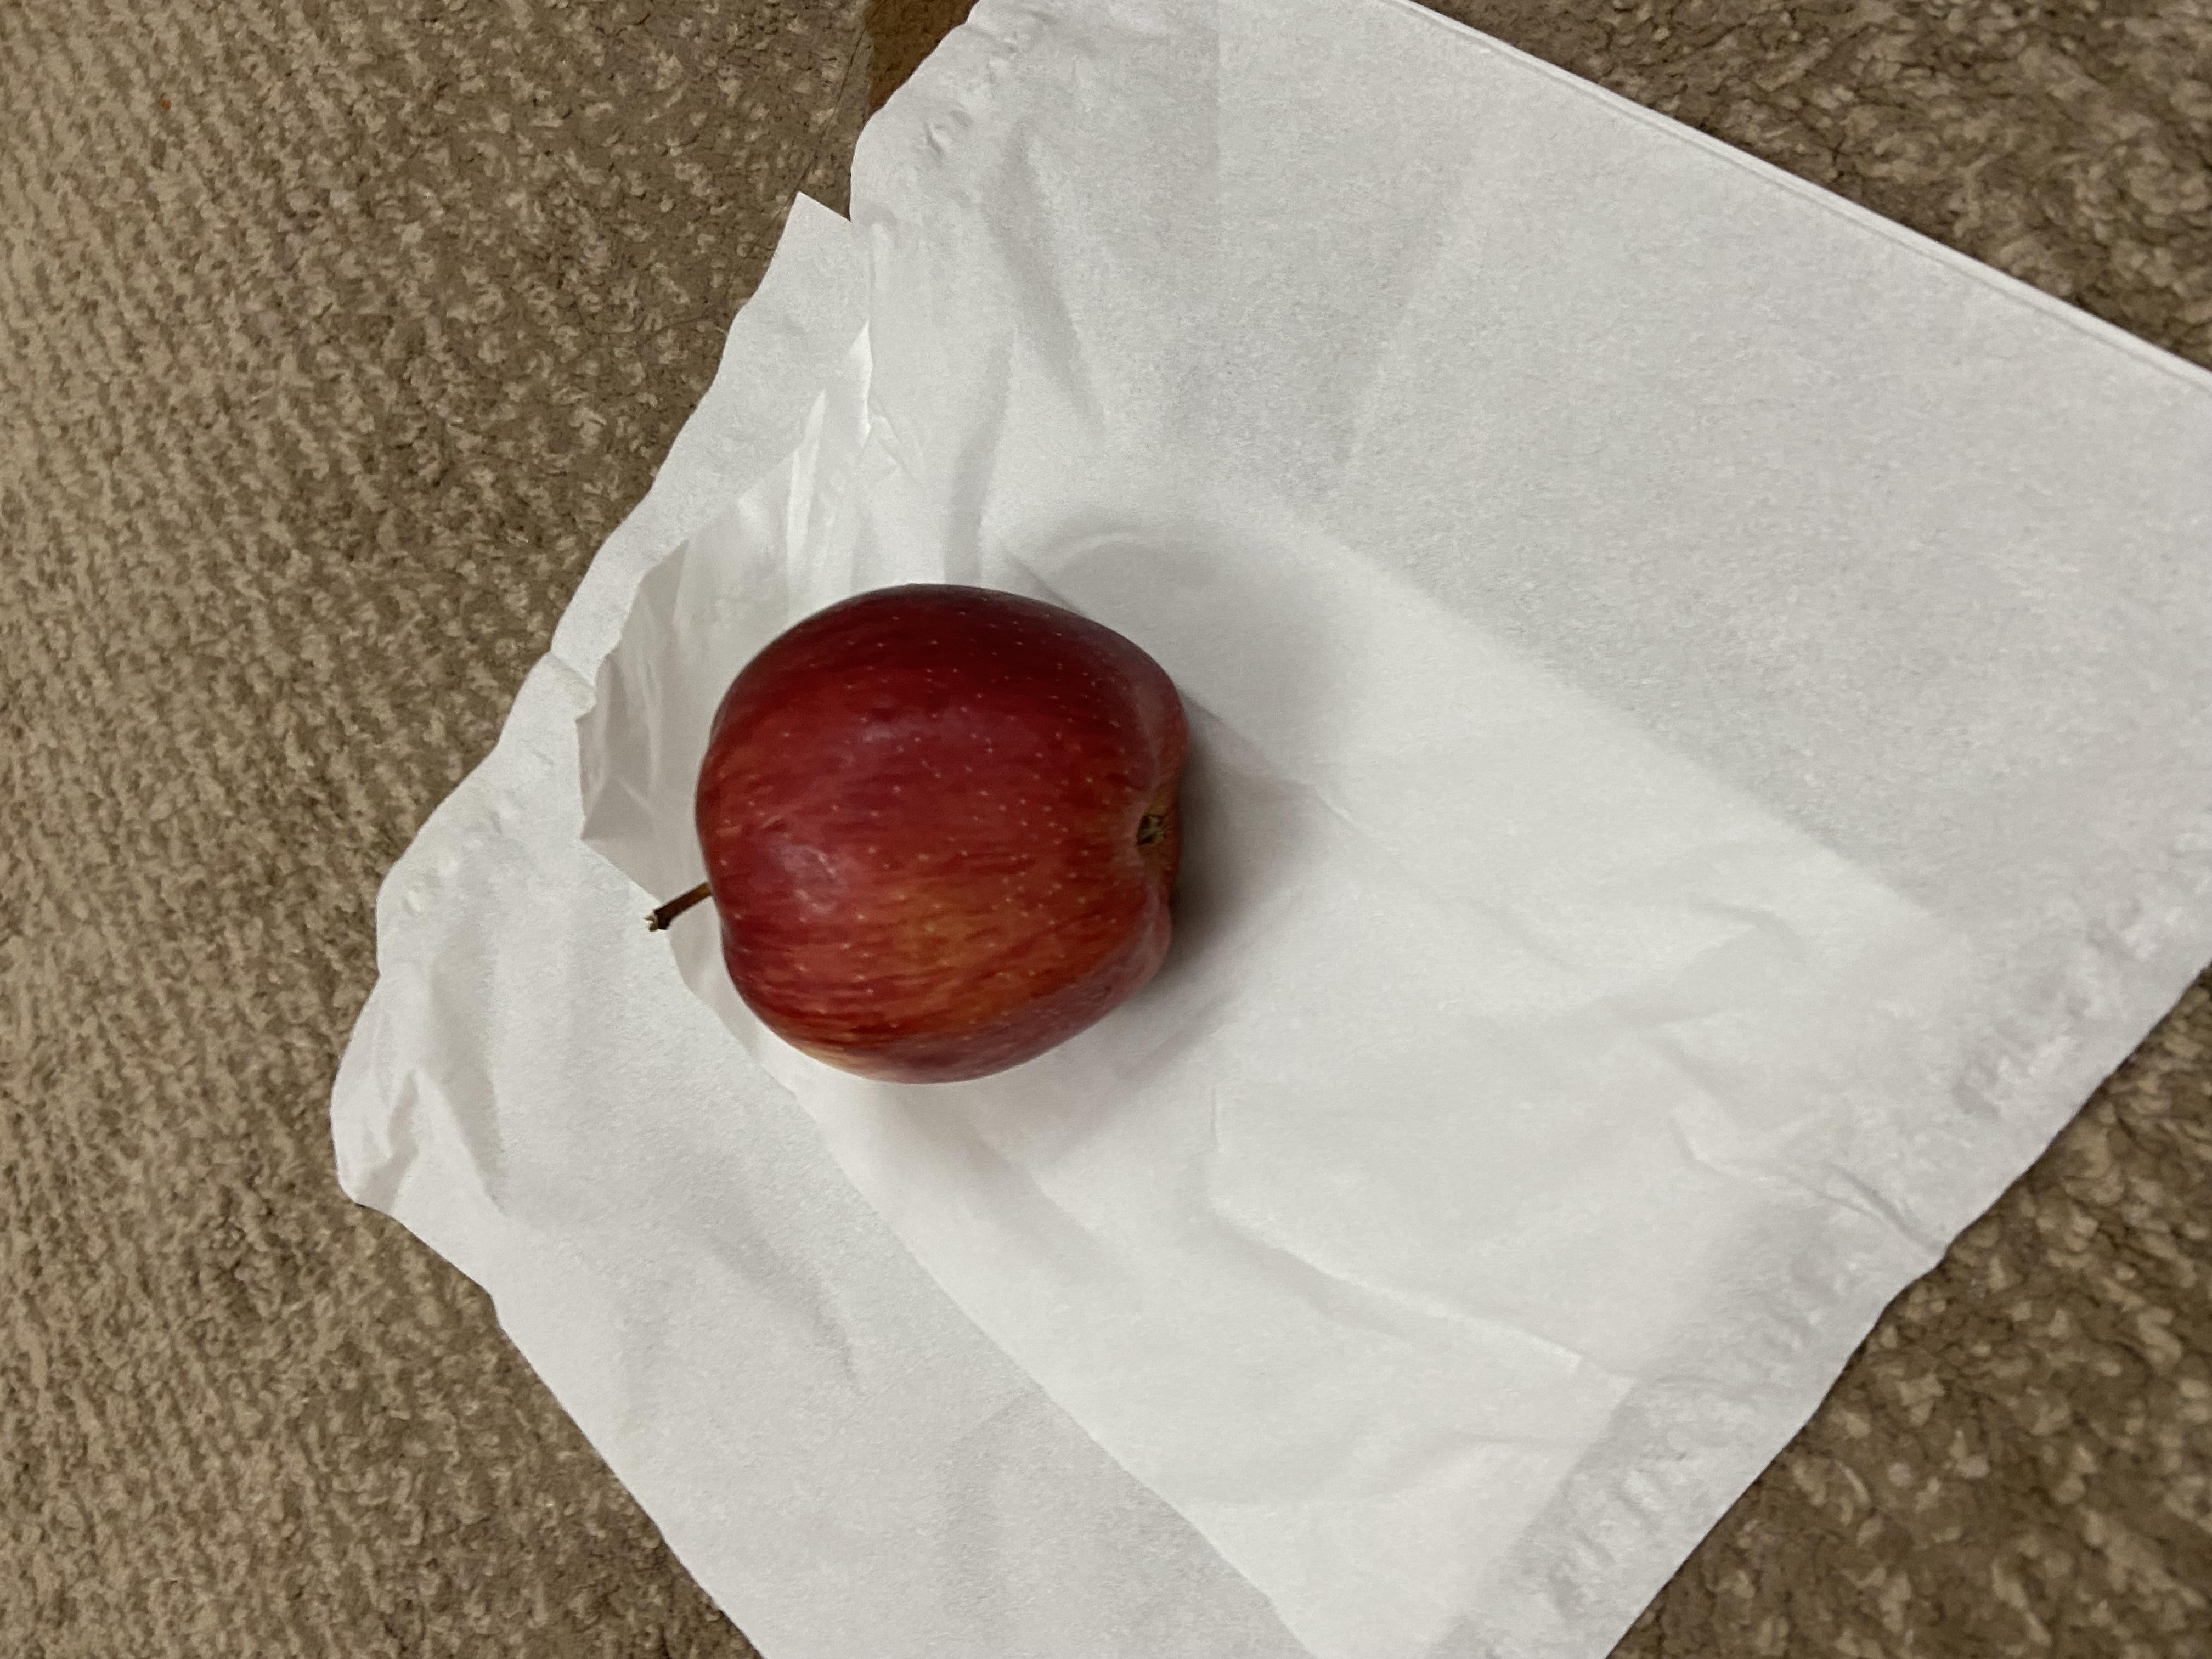Apple: (779, 465, 1449, 904)
